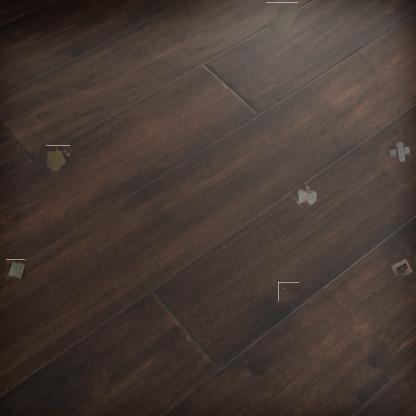dirty: (266, 2, 298, 37), (388, 258, 414, 284), (293, 184, 317, 208), (5, 259, 26, 280), (392, 144, 408, 160)
liquid: (46, 145, 70, 172), (278, 281, 299, 302)
